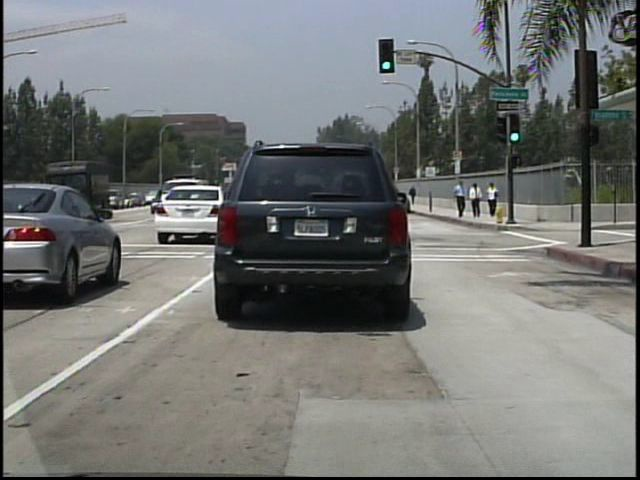person: (454, 178, 469, 220), (468, 181, 483, 217), (485, 181, 499, 217), (408, 184, 417, 207)
